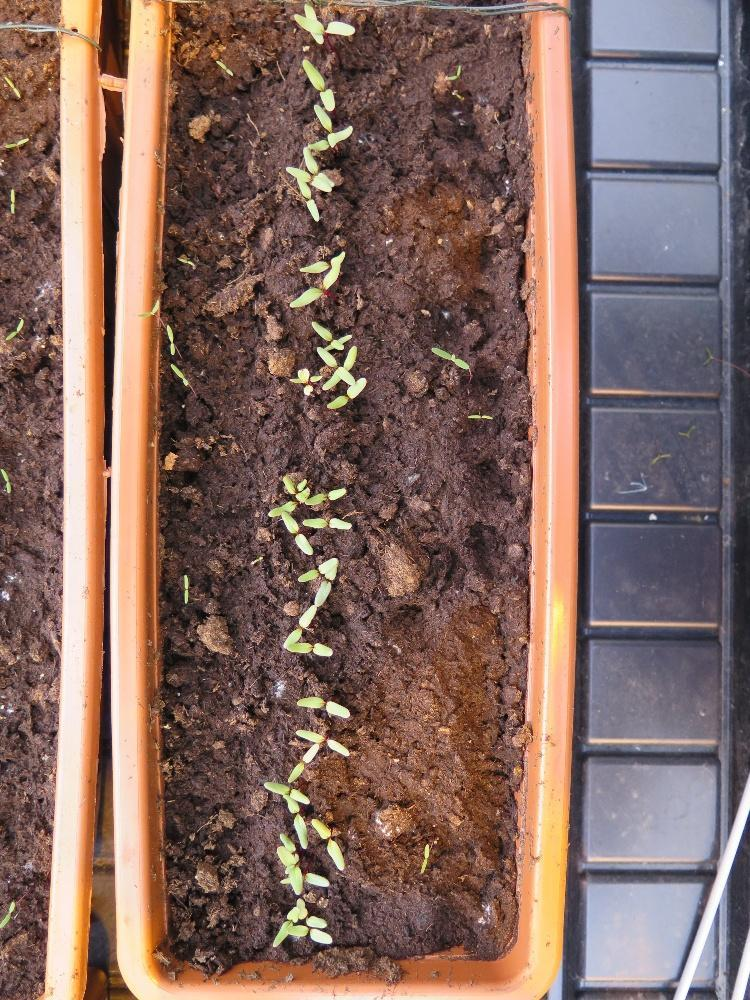crop: (308, 815, 345, 872), (293, 693, 350, 721), (300, 515, 352, 531)
weed: (429, 344, 469, 372), (134, 295, 159, 320), (169, 359, 188, 387), (214, 57, 233, 77), (165, 320, 174, 358), (419, 840, 429, 874), (466, 412, 493, 423), (181, 570, 188, 604)
